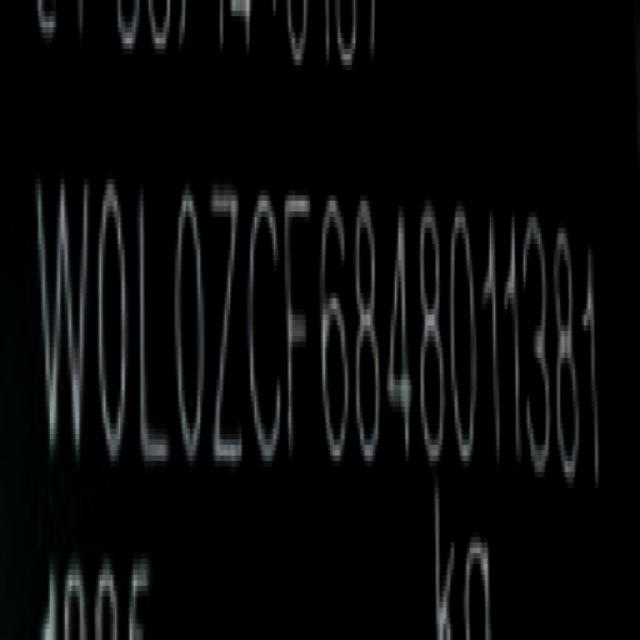0: (96, 175, 132, 481), (176, 183, 208, 485), (449, 196, 478, 474)
1: (580, 227, 604, 492), (481, 197, 501, 480), (504, 201, 522, 484)
3: (526, 217, 551, 486)
4: (388, 198, 415, 472)
6: (318, 187, 348, 476)
8: (353, 192, 381, 472), (418, 194, 445, 471), (554, 218, 579, 492)
C: (248, 182, 283, 481)
F: (285, 182, 316, 480)
L: (135, 178, 170, 483)
W: (34, 163, 90, 477)
Z: (210, 175, 242, 483)
